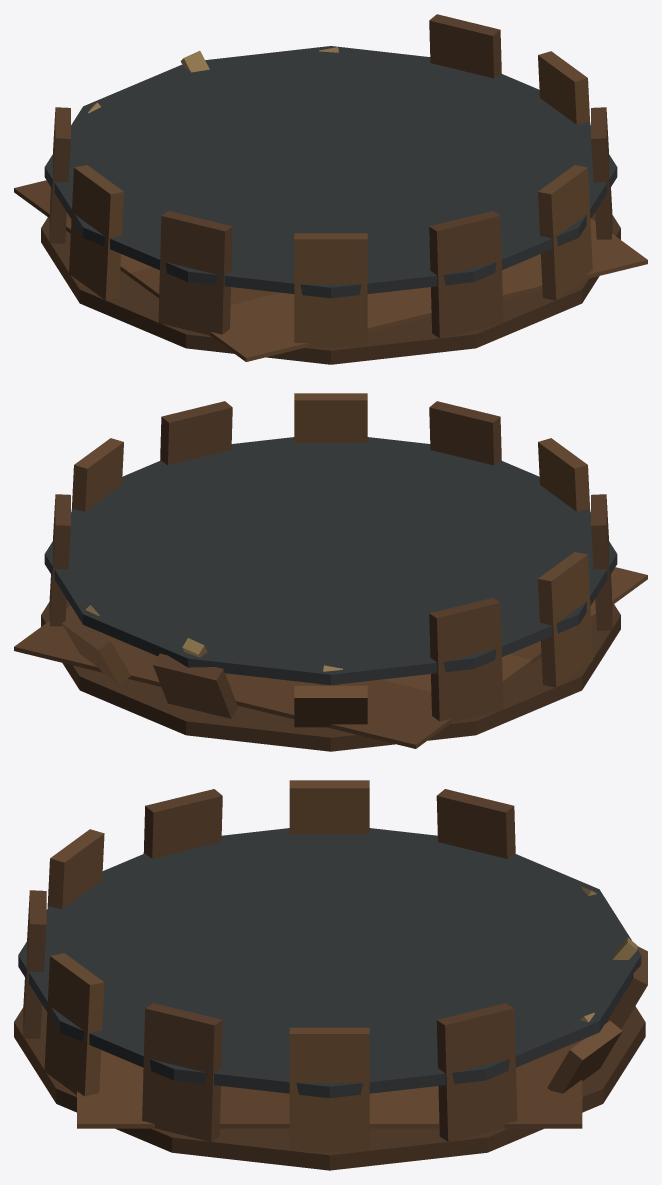
Rendered from prop_cart_pumpkin_slot_bitten.glb.
3 renders of one model, top to bottom at view 1: azimuth 30°, elevation 25°; view 2: azimuth 150°, elevation 25°; view 3: azimuth 270°, elevation 25°, orthographic. The views are drawn at different scales.
Visible parts, largest first — view 1: Slot; view 2: Slot; view 3: Slot.
Part boxes in pixels (box(x1,y1,x2,y2)): Slot: box(14, 14, 647, 364); Slot: box(14, 393, 647, 751); Slot: box(14, 780, 647, 1170).
Size of the model in its own units: 1.5 by 0.3408 by 1.51.
